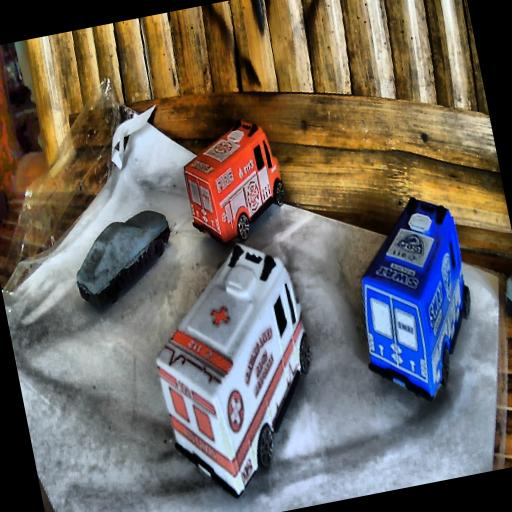ambulance: (136, 231, 333, 508)
fire_truck: (174, 112, 292, 252)
normal_car: (64, 206, 184, 314), (498, 260, 512, 385)
police car: (338, 186, 488, 408)
